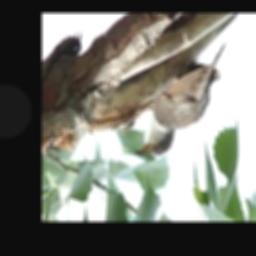Cuckoo: (135, 42, 226, 157)
